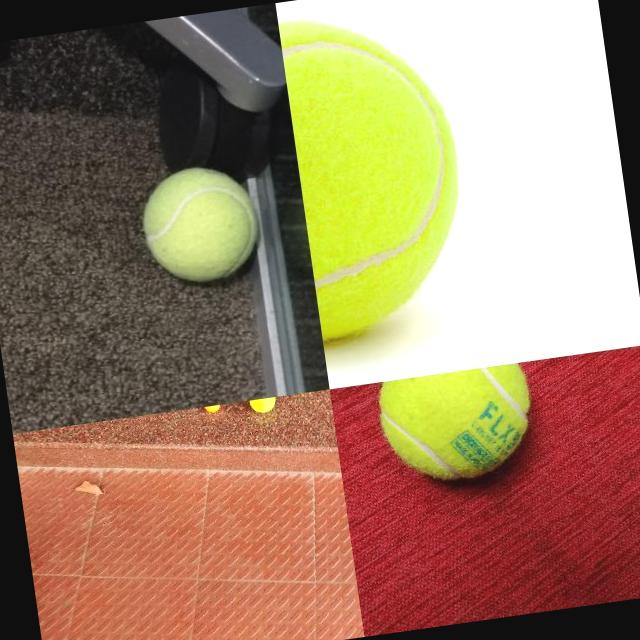Tennis Ball: (278, 0, 479, 341), (374, 362, 540, 489), (134, 160, 265, 292), (248, 397, 278, 415)
